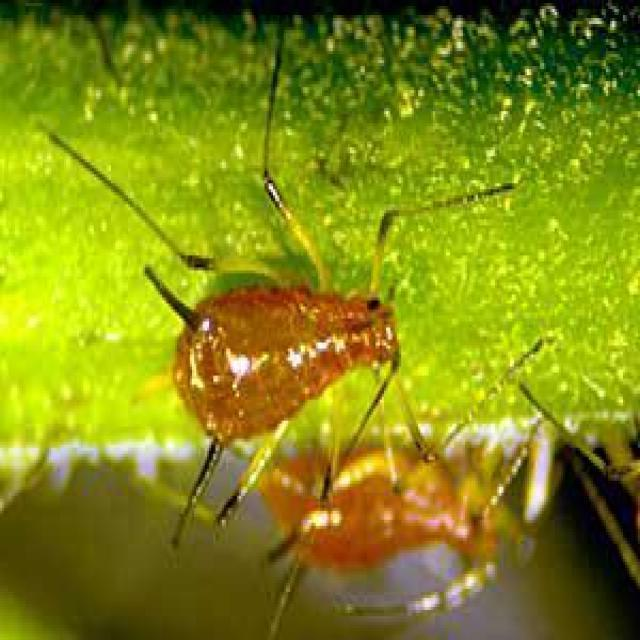aphid: (142, 228, 402, 456), (220, 460, 514, 610)
